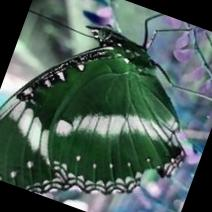butterfly: (0, 27, 184, 194)
